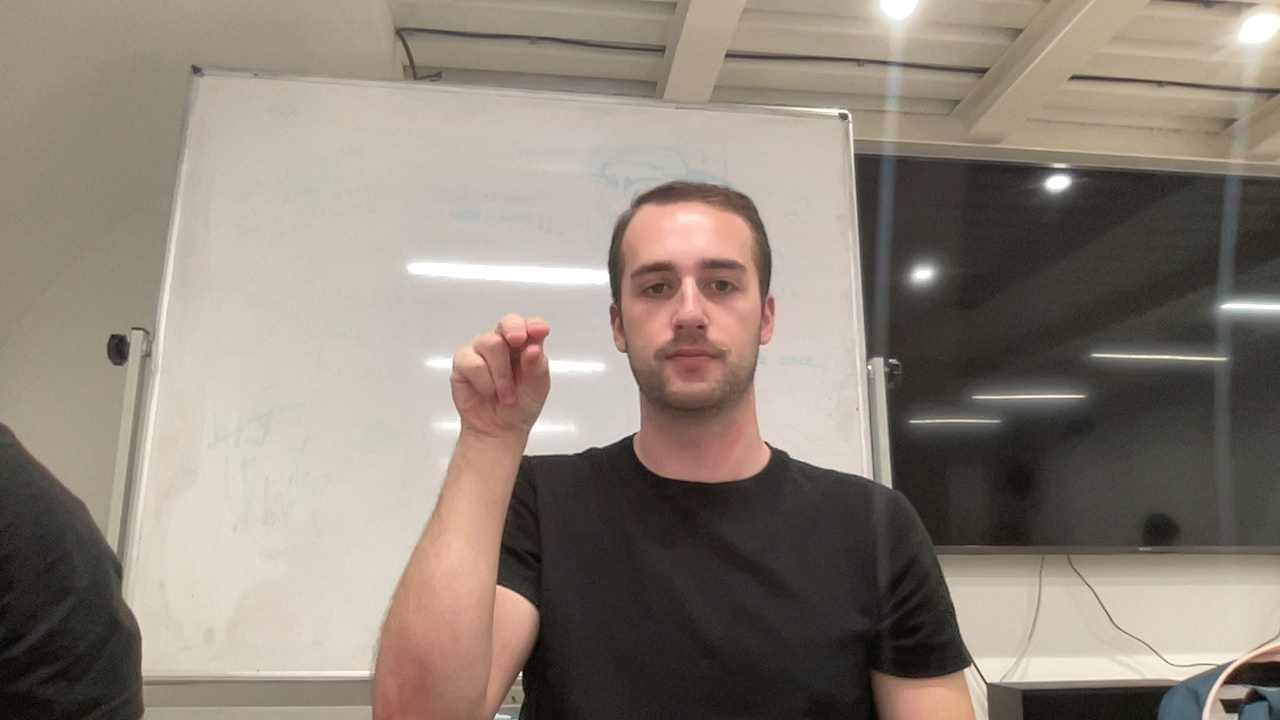No: (445, 309, 562, 459)
